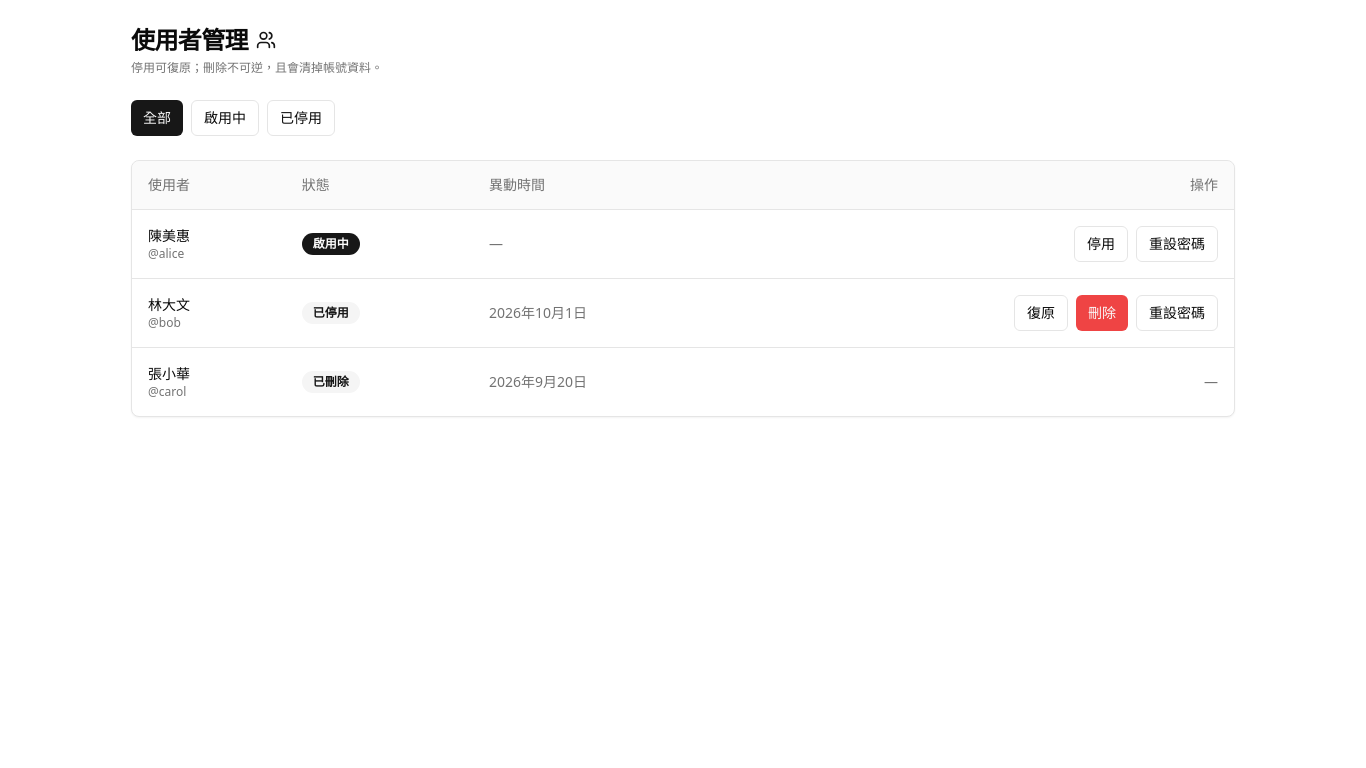
Test case: UsersPage › 重設密碼（已停用）：列上那顆鈕為正確的那一列打開對話框，確認後送出 POST 且框關閉
This screenshot has width=1366, height=768.
Click the button "重設密碼" in the row of "林大文".
click(1177, 312)  # box top-left (1136, 294), bottom-right (1218, 330)
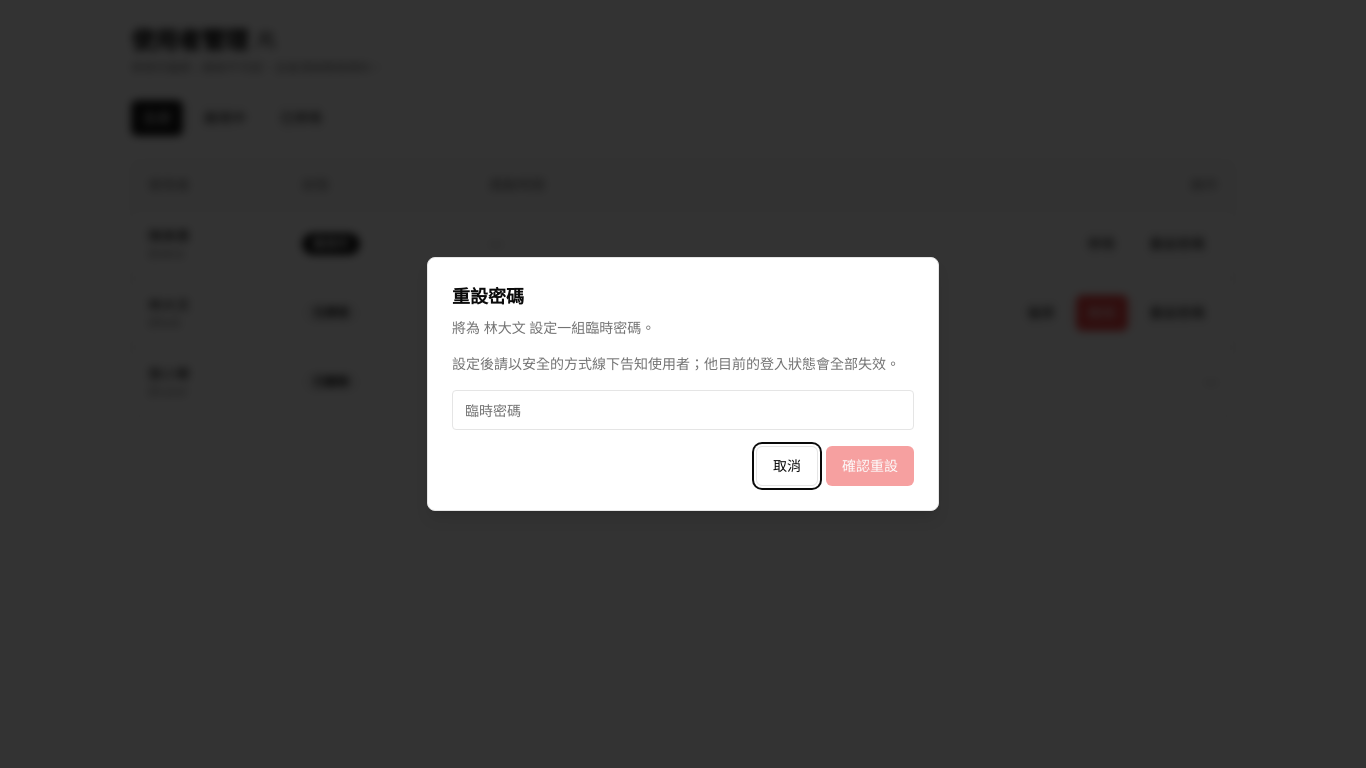
Type "Temp1234" into the field.
click(683, 410); type("Temp1234")  # box top-left (452, 390), bottom-right (914, 430)
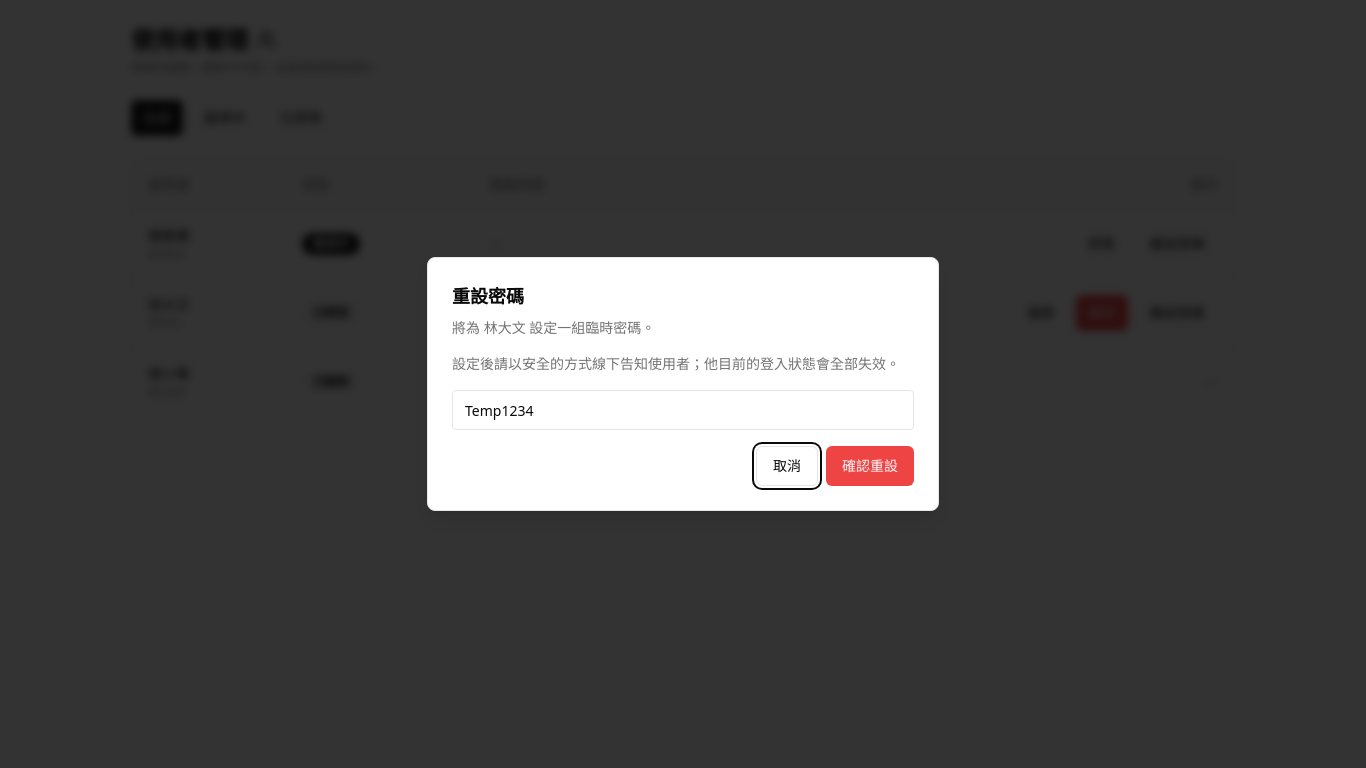
Click the button "確認重設".
click(870, 466)  # box top-left (826, 446), bottom-right (914, 486)
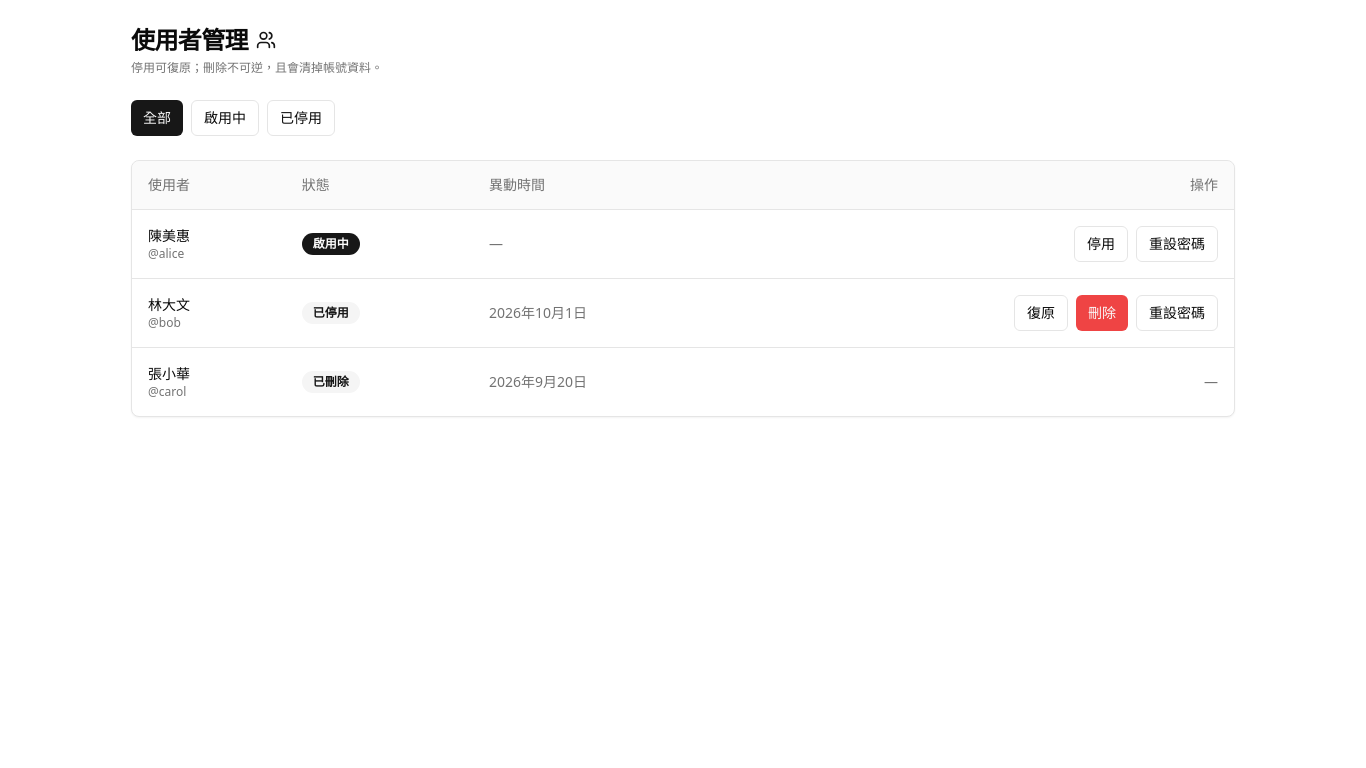
Expected: the dialog is gone
